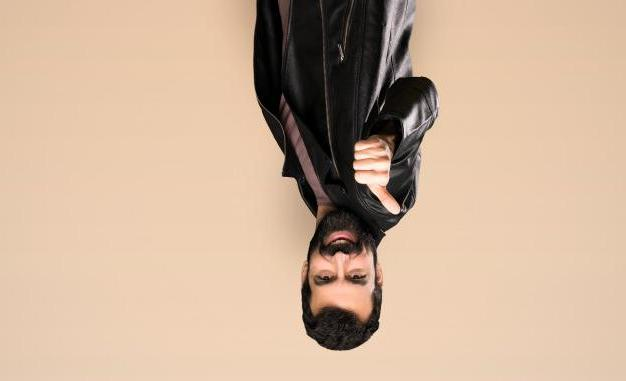thumbsdown: (353, 139, 401, 215)
